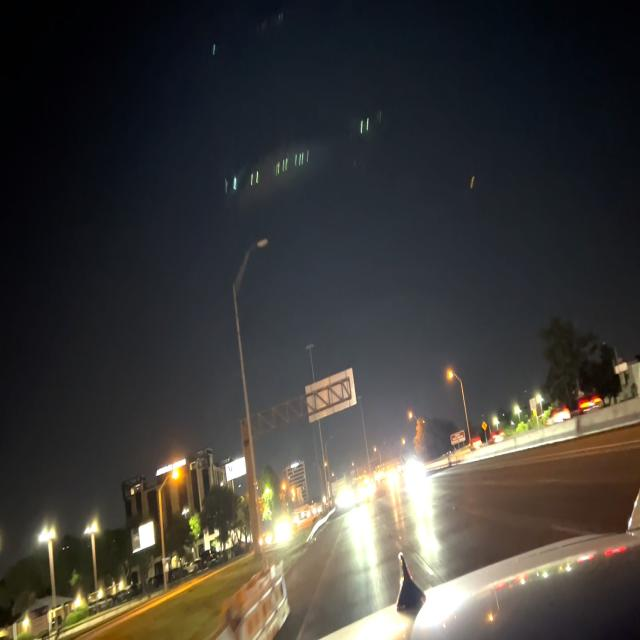back-of-sign: (305, 372, 356, 425)
